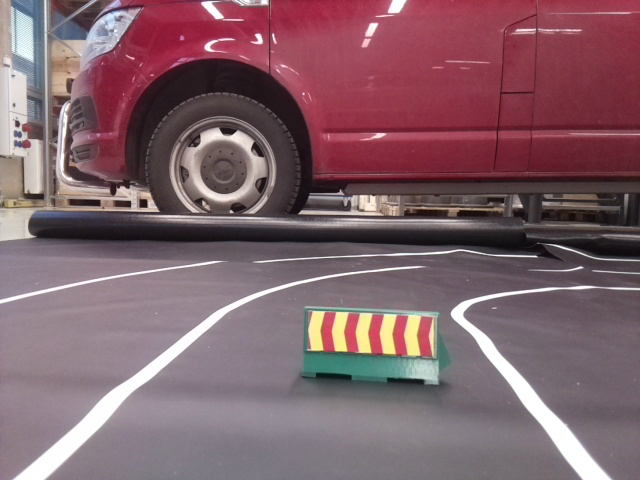ClosedRoadStand: (305, 307, 436, 381)
